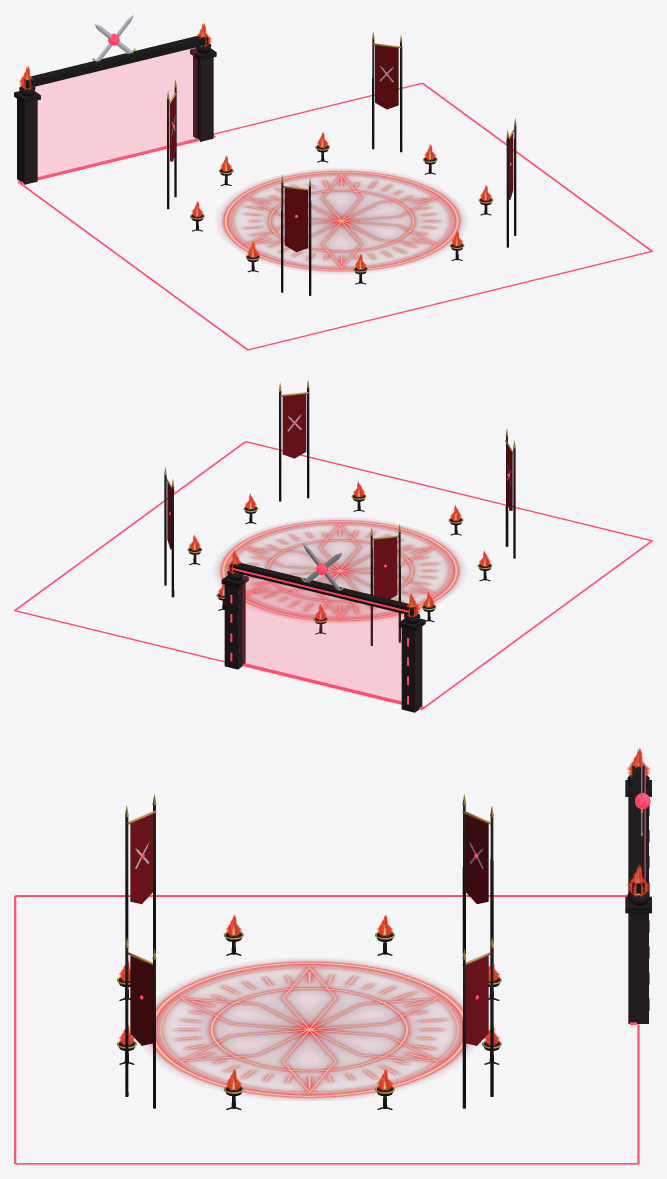
File: pvp_zone.glb
3 renders of one model, top to bottom at view 1: azimuth 30°, elevation 25°; view 2: azimuth 150°, elevation 25°; view 3: azimuth 270°, elevation 25°, orthographic. The views are drawn at different scales.
Visible parts, largest first — view 1: pvp_zone_base_pvp_sigil, pvp_zone_base_pvp_veil, pvp_zone_base_pvp_iron, pvp_banners_pvp_red, pvp_zone_base_pvp_stone, pvp_zone_base_pvp_glow, pvp_banners_pvp_iron, pvp_zone_base_pvp_fire; view 2: pvp_zone_base_pvp_veil, pvp_zone_base_pvp_sigil, pvp_zone_base_pvp_glow, pvp_banners_pvp_red, pvp_zone_base_pvp_stone, pvp_zone_base_pvp_iron, pvp_banners_pvp_iron, pvp_zone_base_pvp_fire; view 3: pvp_zone_base_pvp_sigil, pvp_banners_pvp_red, pvp_banners_pvp_iron, pvp_zone_base_pvp_glow, pvp_zone_base_pvp_iron, pvp_zone_base_pvp_stone, pvp_zone_base_pvp_fire, pvp_banners_pvp_gold.
Boxes of the visible parts, x1=… form: pvp_zone_base_pvp_sigil: x1=221, y1=170, x2=462, y2=271; pvp_zone_base_pvp_veil: x1=35, y1=48, x2=196, y2=176; pvp_zone_base_pvp_iron: x1=14, y1=36, x2=491, y2=284; pvp_banners_pvp_red: x1=170, y1=45, x2=513, y2=251; pvp_zone_base_pvp_stone: x1=17, y1=56, x2=213, y2=184; pvp_zone_base_pvp_glow: x1=17, y1=33, x2=652, y2=350; pvp_banners_pvp_iron: x1=167, y1=39, x2=516, y2=295; pvp_zone_base_pvp_fire: x1=19, y1=23, x2=491, y2=270; pvp_zone_base_pvp_veil: x1=243, y1=575, x2=403, y2=704; pvp_zone_base_pvp_sigil: x1=218, y1=519, x2=461, y2=621; pvp_zone_base_pvp_glow: x1=14, y1=441, x2=652, y2=709; pvp_banners_pvp_red: x1=167, y1=394, x2=512, y2=598; pvp_zone_base_pvp_stone: x1=224, y1=583, x2=422, y2=712; pvp_zone_base_pvp_iron: x1=189, y1=495, x2=490, y2=634; pvp_banners_pvp_iron: x1=164, y1=388, x2=515, y2=645; pvp_zone_base_pvp_fire: x1=189, y1=481, x2=490, y2=620; pvp_zone_base_pvp_sigil: x1=149, y1=960, x2=468, y2=1098; pvp_banners_pvp_red: x1=130, y1=814, x2=488, y2=1045; pvp_banners_pvp_iron: x1=125, y1=805, x2=493, y2=1108; pvp_zone_base_pvp_glow: x1=14, y1=769, x2=650, y2=1164; pvp_zone_base_pvp_iron: x1=118, y1=766, x2=651, y2=1109; pvp_zone_base_pvp_stone: x1=628, y1=797, x2=648, y2=1023; pvp_zone_base_pvp_fire: x1=119, y1=748, x2=649, y2=1090; pvp_banners_pvp_gold: x1=125, y1=794, x2=493, y2=965.
Size of the model in its own units: 30.92 by 10.11 by 31.06.
Materials: 9 (2 with a texture image).
